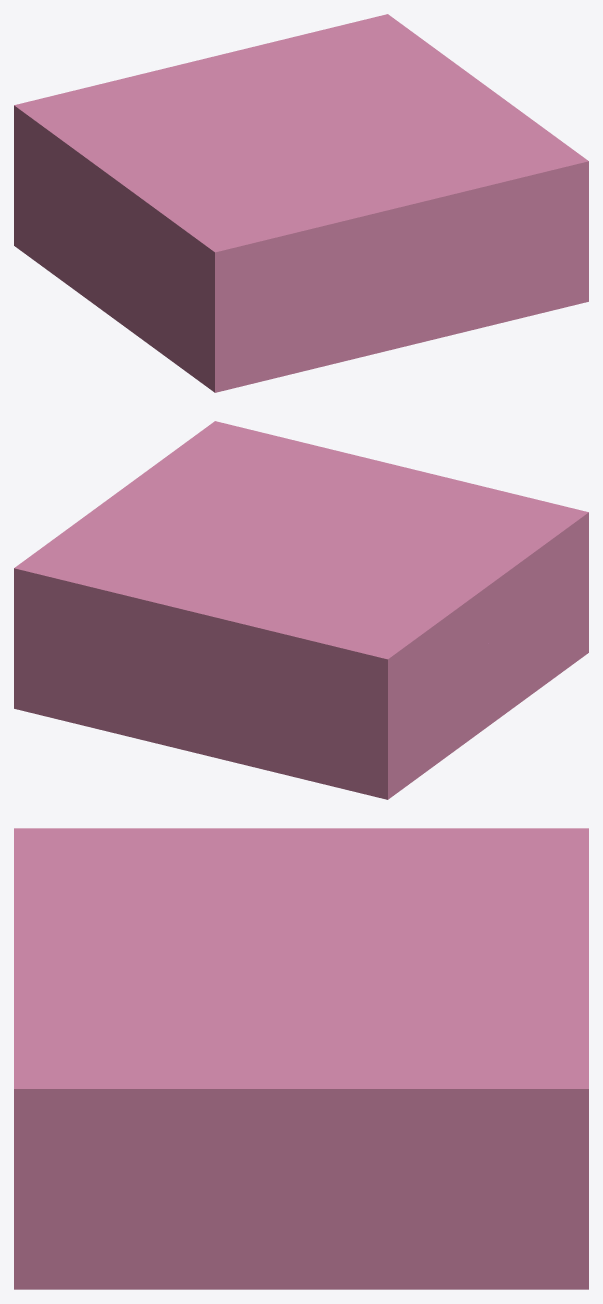
File: lush_ferns_01_a.dae
3 renders of one model, top to bottom at view 1: azimuth 30°, elevation 25°; view 2: azimuth 150°, elevation 25°; view 3: azimuth 270°, elevation 25°, orthographic. The views are drawn at different scales.
Parts seen in each view (by area): view 1: Untitled; view 2: Untitled; view 3: Untitled.
Part boxes in pixels (bbox=[...]): Untitled: bbox=[14, 14, 588, 392]; Untitled: bbox=[14, 421, 588, 799]; Untitled: bbox=[14, 828, 588, 1289].
Bounding box in the file's own units: 1.34 × 1.25 × 0.5616.
